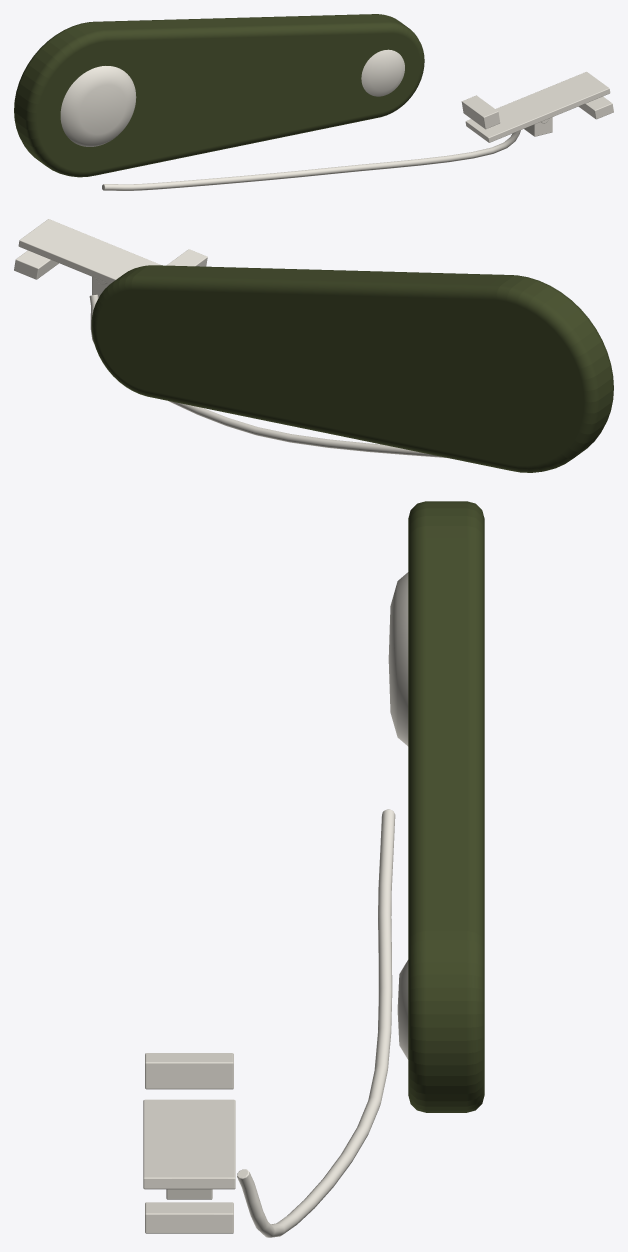
Rendered from bike_vintage_vtwin__clutch.glb.
The picture shows the model from 3 angles, top to bottom: view 1: azimuth 30°, elevation 25°; view 2: azimuth 150°, elevation 25°; view 3: azimuth 270°, elevation 25°; orthographic projection. The views are drawn at different scales.
Visible parts, largest first — view 1: transmission__primary_chaincase, transmission__clutch_pedal, transmission__primary_chaincase__caps; view 2: transmission__primary_chaincase, transmission__clutch_pedal; view 3: transmission__primary_chaincase, transmission__clutch_pedal, transmission__primary_chaincase__caps.
Boxes of the visible parts, <box> form: transmission__primary_chaincase: <box>14,14,424,177</box>; transmission__clutch_pedal: <box>102,71,613,190</box>; transmission__primary_chaincase__caps: <box>60,49,404,146</box>; transmission__primary_chaincase: <box>91,265,613,472</box>; transmission__clutch_pedal: <box>14,219,448,458</box>; transmission__primary_chaincase: <box>408,501,484,1112</box>; transmission__clutch_pedal: <box>143,809,395,1237</box>; transmission__primary_chaincase__caps: <box>388,572,408,1059</box>.
Size of the model in its own units: 67.37 by 23.52 by 19.2.
